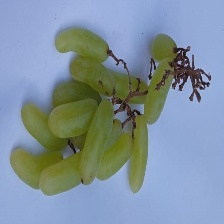grapes: (17, 20, 162, 162)
